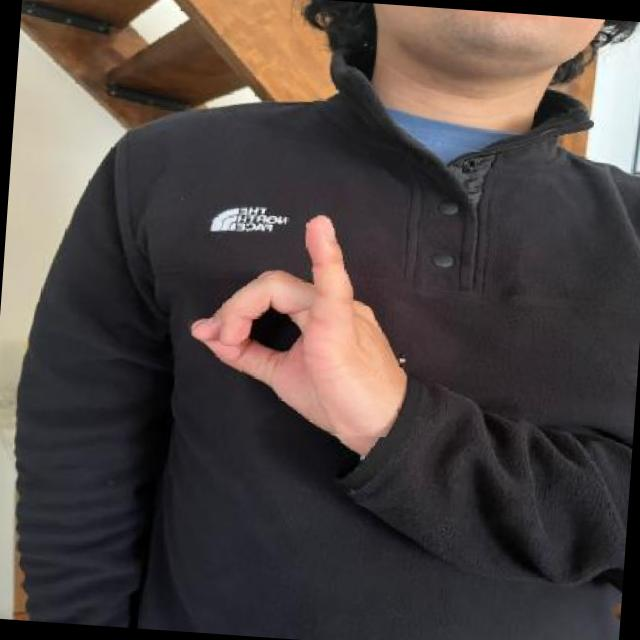D: (175, 194, 418, 438)
